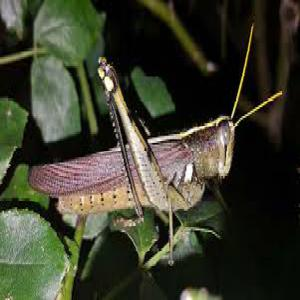locust: (35, 55, 259, 237)
